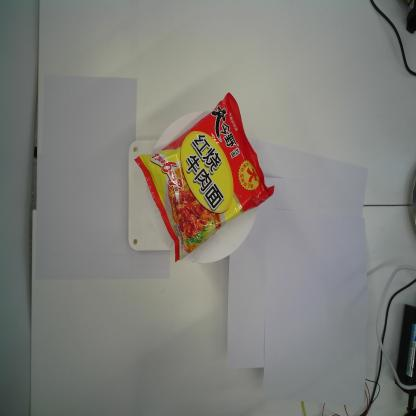Instant Noodles: (133, 91, 275, 262)
